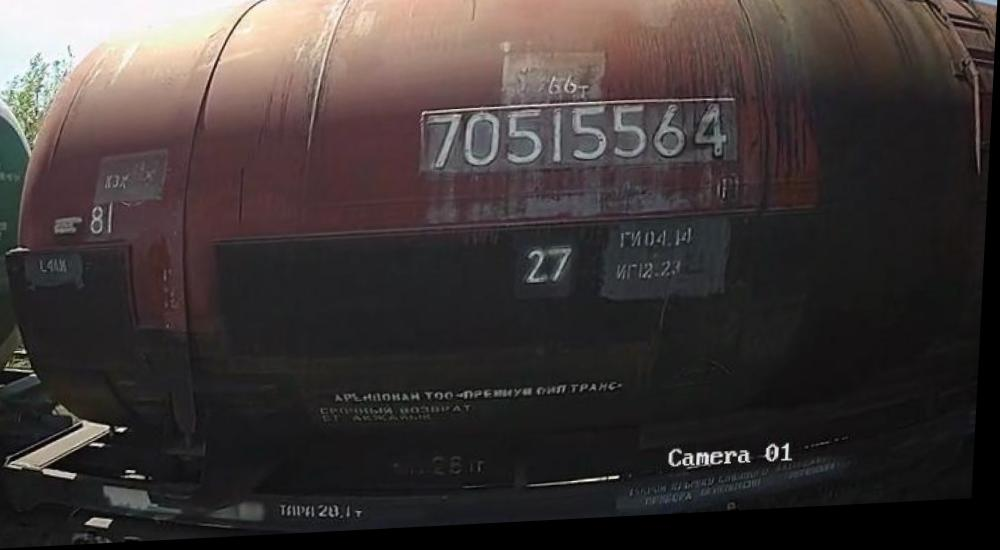Wagon-number: (424, 102, 737, 180)
